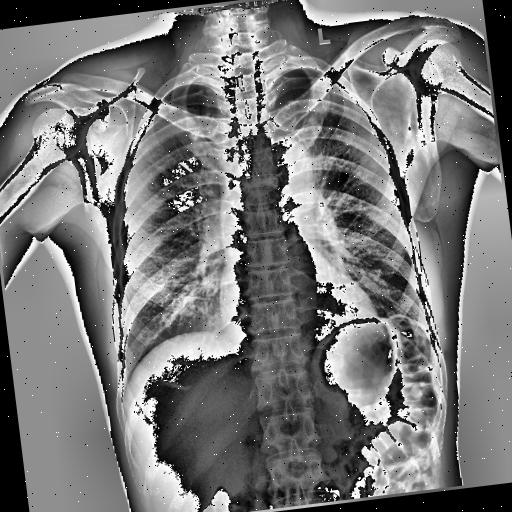0- Aortic enlargement: (257, 132, 314, 206), (255, 128, 315, 198), (262, 134, 314, 193)
5- ILD: (108, 138, 222, 329), (314, 130, 422, 328), (300, 107, 406, 298), (104, 186, 214, 368)
